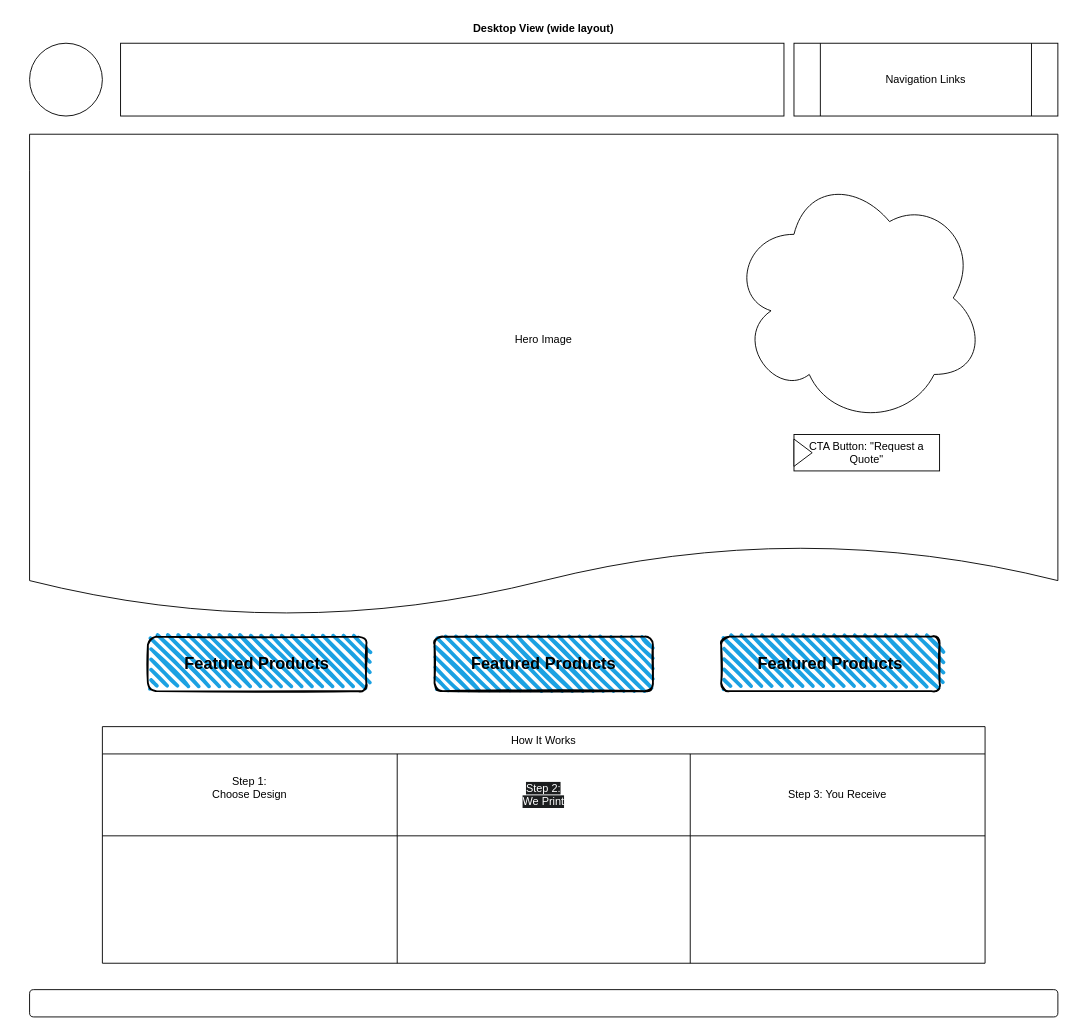
Some shapes in this 1087 by 1033 pixel diagram are drawn without their labels. Here are the shapes that lost their labels. From the top down, the centre of each, then its label:
At (65,79): "Logo".
At (452,79): "Site Name".
At (857,297): "Short Intro Text".
At (543,1003): "Footer".
